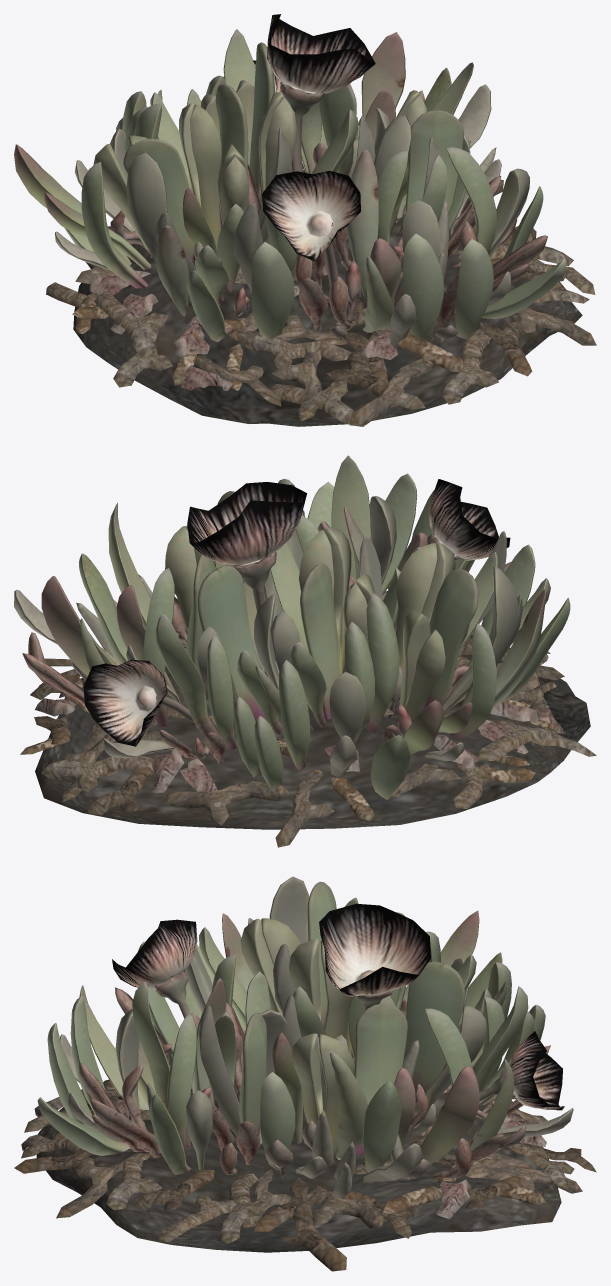
The model's file is cheiridopsis_succulent_i.gltf.
The picture shows the model from 3 angles, top to bottom: view 1: azimuth 30°, elevation 25°; view 2: azimuth 150°, elevation 25°; view 3: azimuth 270°, elevation 25°; orthographic projection. The views are drawn at different scales.
Visible parts, largest first — view 1: cheiridopsis_succulent_i_LOD0; view 2: cheiridopsis_succulent_i_LOD0; view 3: cheiridopsis_succulent_i_LOD0.
Boxes of the visible parts, x1,y1,x2,y2 form: cheiridopsis_succulent_i_LOD0: (14, 14, 596, 426); cheiridopsis_succulent_i_LOD0: (14, 455, 596, 847); cheiridopsis_succulent_i_LOD0: (14, 876, 596, 1271).
Size of the model in its own units: 0.5106 by 0.2663 by 0.5487.
Materials: 2 (2 with a texture image).
